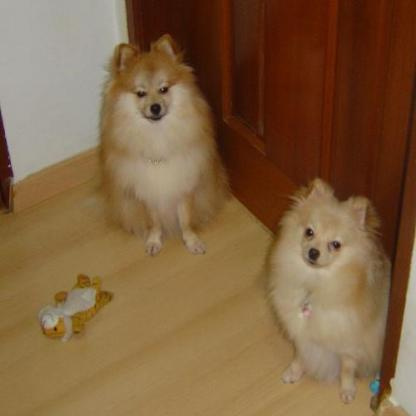Pomeranian: (96, 30, 231, 255), (266, 174, 392, 399)
